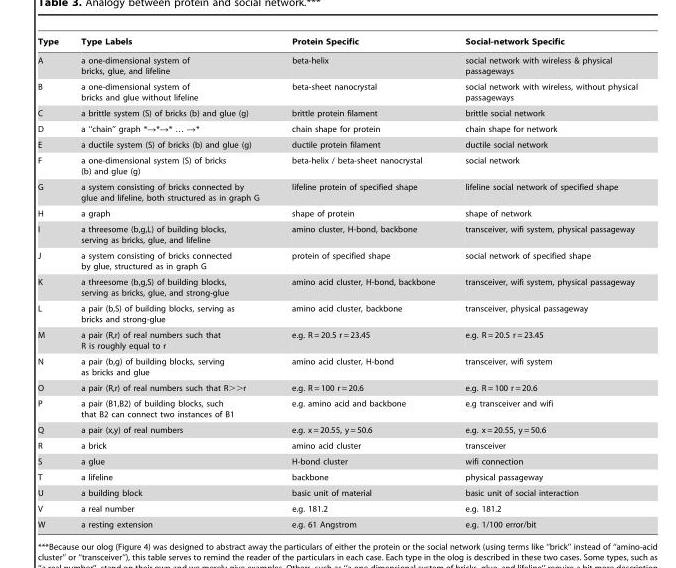table: (37, 36, 636, 528)
table column: (69, 36, 274, 528), (449, 36, 636, 528), (274, 36, 449, 528), (37, 36, 69, 528)
table column header: (37, 36, 636, 50)
table row: (37, 50, 636, 78), (37, 78, 636, 105), (37, 178, 636, 205), (37, 273, 636, 300), (37, 326, 636, 353), (37, 152, 636, 178), (37, 221, 636, 247), (37, 247, 636, 273), (37, 300, 636, 326), (37, 353, 636, 379), (37, 395, 636, 421), (37, 120, 636, 136), (37, 136, 636, 152), (37, 205, 636, 221), (37, 379, 636, 395), (37, 421, 636, 437), (37, 437, 636, 453), (37, 453, 636, 469), (37, 484, 636, 500), (37, 500, 636, 516), (37, 105, 636, 120), (37, 469, 636, 484), (37, 36, 636, 50), (37, 516, 636, 528)
